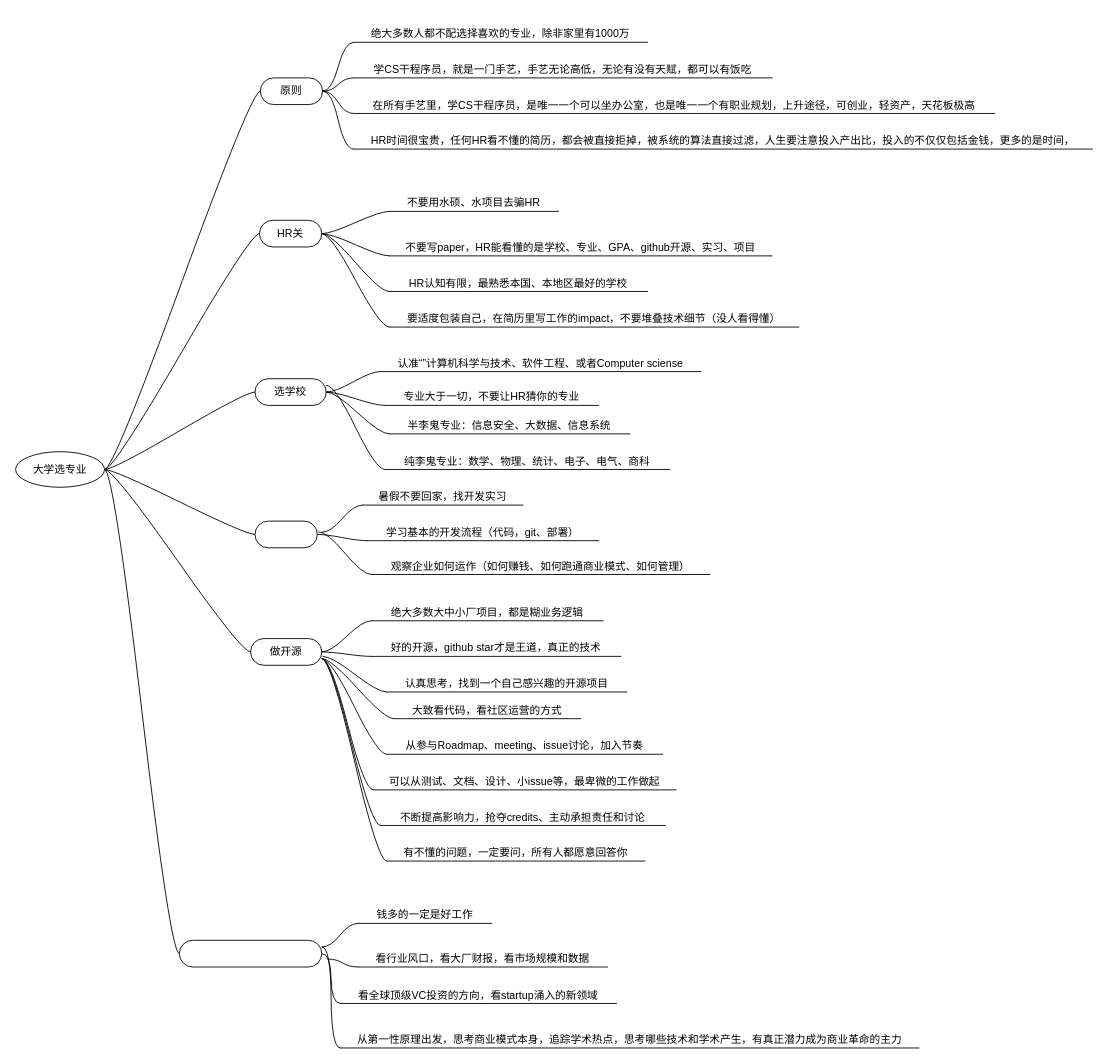
Image size: 1108x1064. Some labels were removed from this diagram. Here are the shapes that lost their labels. From the top down, the centre of each, then its label:
At (x=285, y=534): "实习".
At (x=250, y=953): "如何判断未来发展方向".
